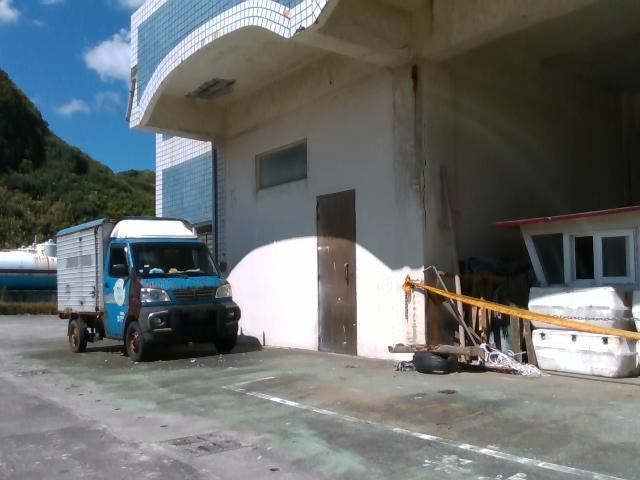pollute: (385, 200, 637, 381)
